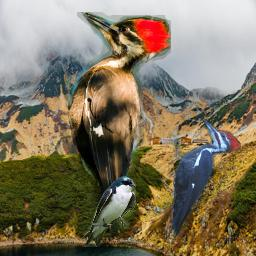Swallow: (82, 176, 136, 247)
Woodpecker: (57, 12, 171, 235), (168, 114, 241, 241)
